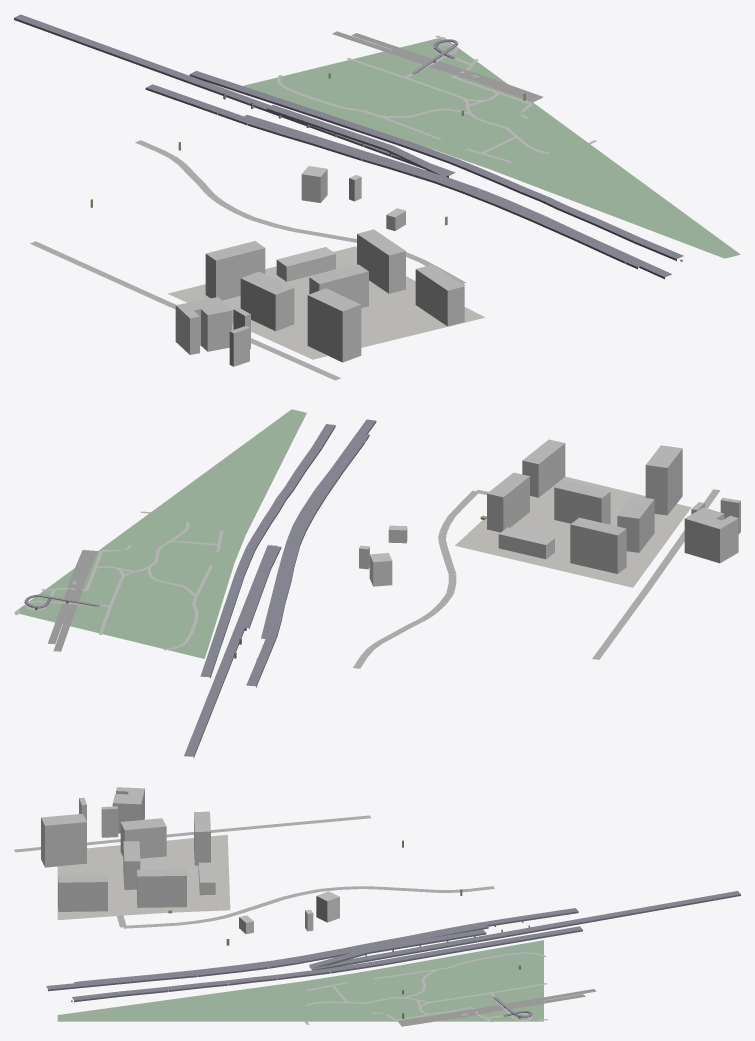
The picture shows the model from 3 angles, top to bottom: view 1: azimuth 30°, elevation 25°; view 2: azimuth 150°, elevation 25°; view 3: azimuth 270°, elevation 25°; orthographic projection. The views are drawn at different scales.
Bounding box in the file's own units: 518 × 48.62 × 747.
